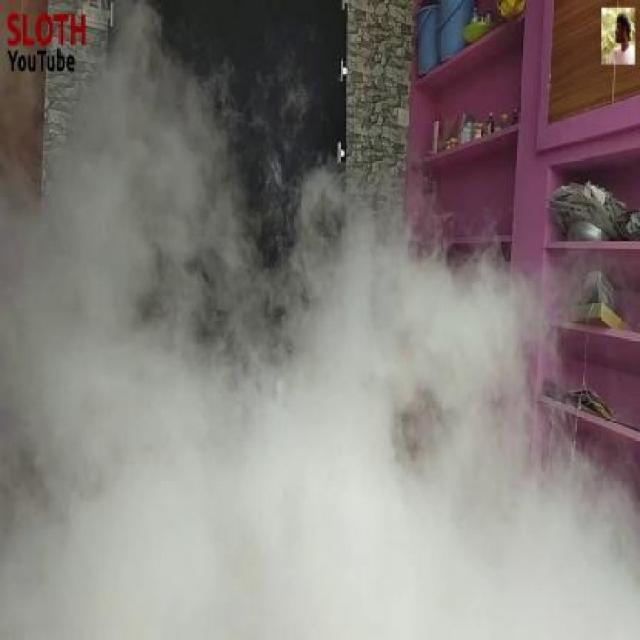smoke: (26, 94, 620, 640)
